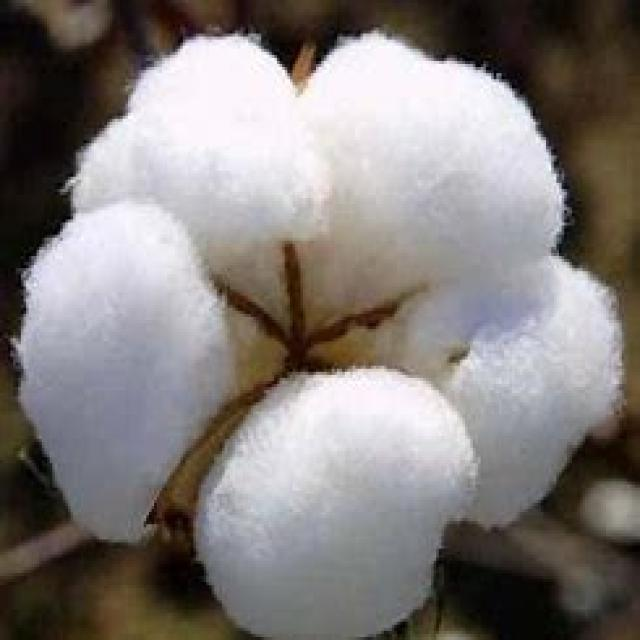Matured Cotton Boll: (12, 19, 632, 640)
